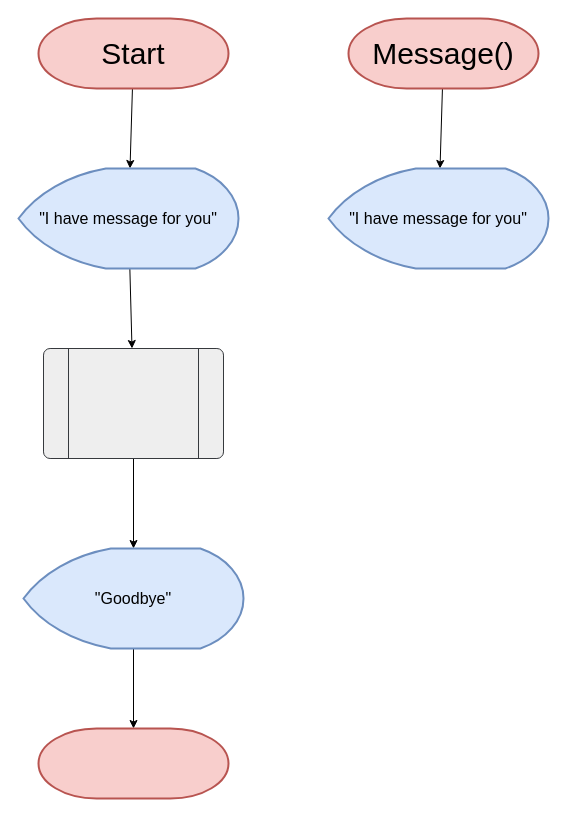
This 566x816 diagram has some shape labels left out. The centre of each missing label's shape, as x and y in pixels:
"Massge()" goes at (x=133, y=403).
"Stop" goes at (x=133, y=763).
